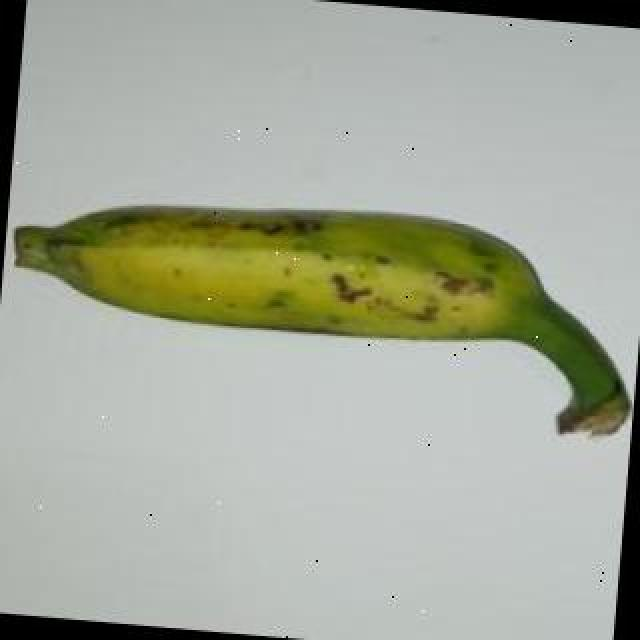Unripe: (12, 202, 631, 438)
